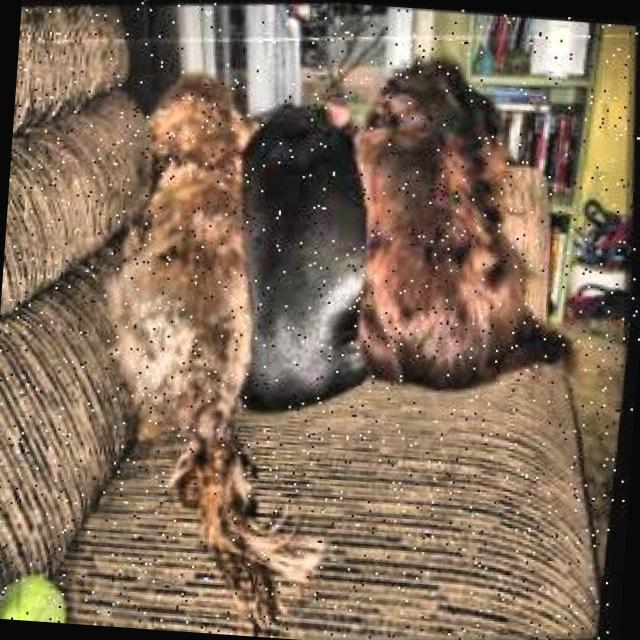Tennis Ball: (0, 566, 75, 621)
